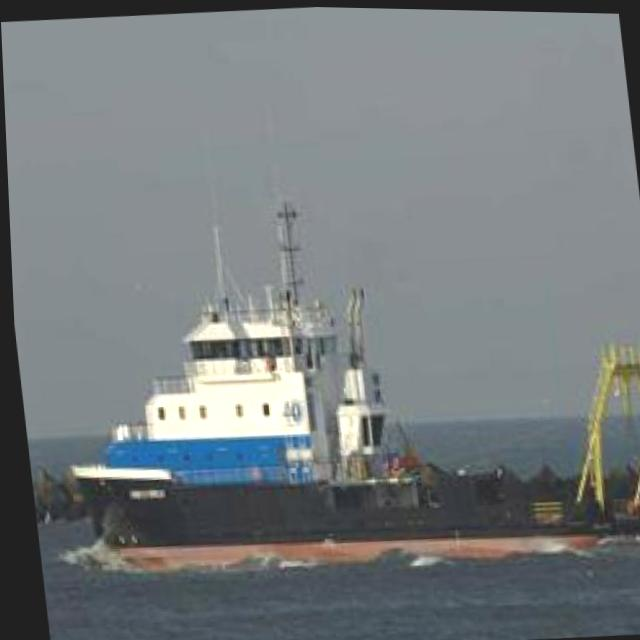ship2: (68, 203, 640, 562)
